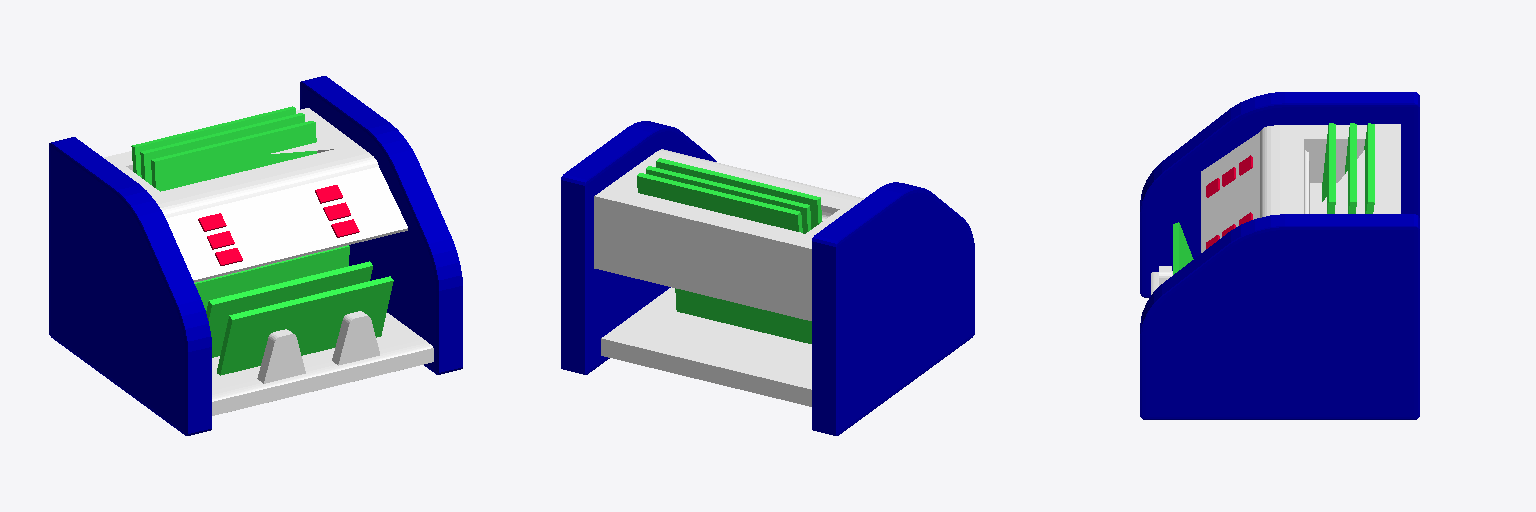
File: 1801-moneymachine_3.obj
The picture shows the model from 3 angles: view 1: azimuth 30°, elevation 25°; view 2: azimuth 150°, elevation 25°; view 3: azimuth 270°, elevation 25°; orthographic projection.
Parts seen in each view (by area): view 1: Cube.038_Material.004, Cube.038_Material.006, Cube.038_Material.002, Cube.038_Material.007; view 2: Cube.038_Material.004, Cube.038_Material.006, Cube.038_Material.002; view 3: Cube.038_Material.004, Cube.038_Material.006, Cube.038_Material.002, Cube.038_Material.007.
Part boxes in pixels (x1,y1,x2,y2): Cube.038_Material.004: (49,76,462,435); Cube.038_Material.006: (104,108,433,415); Cube.038_Material.002: (131,106,393,375); Cube.038_Material.007: (198,185,359,265); Cube.038_Material.004: (561,121,974,435); Cube.038_Material.006: (594,149,863,406); Cube.038_Material.002: (637,158,821,343); Cube.038_Material.004: (1140,92,1419,419); Cube.038_Material.006: (1151,124,1400,294); Cube.038_Material.002: (1173,123,1374,274); Cube.038_Material.007: (1206,155,1252,248).
Bounding box in the file's own units: 15.3 × 10.33 × 13.43.